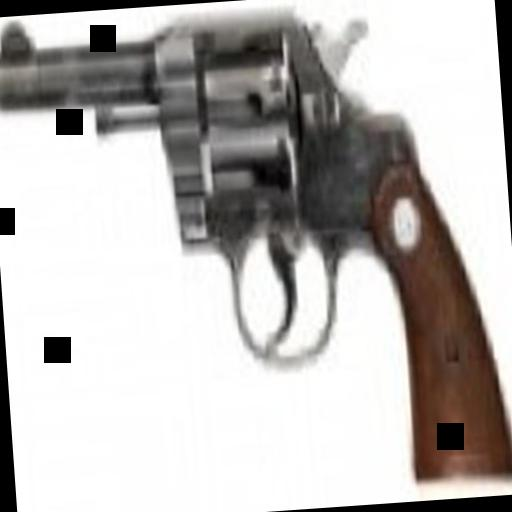Handgun: (0, 0, 511, 510)
